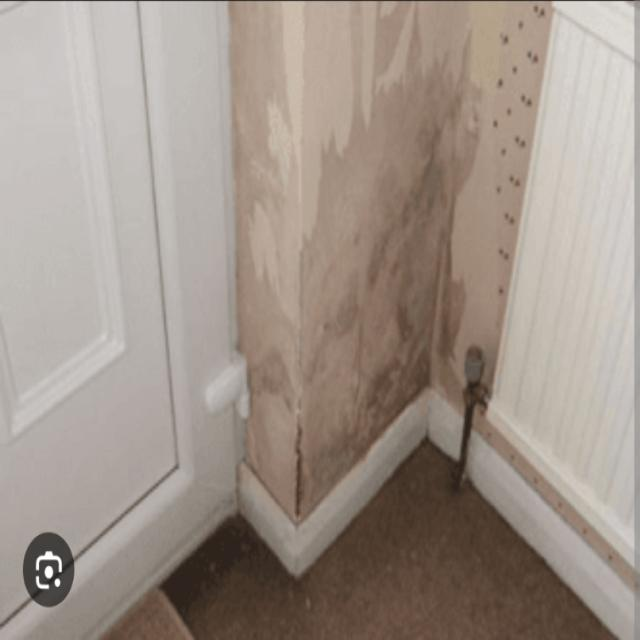wall_leaking: (301, 18, 497, 517), (230, 65, 297, 527)
